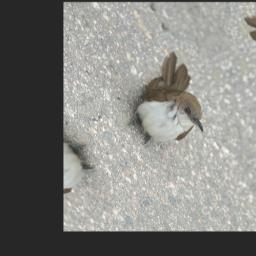Cuckoo: (102, 49, 221, 160)
